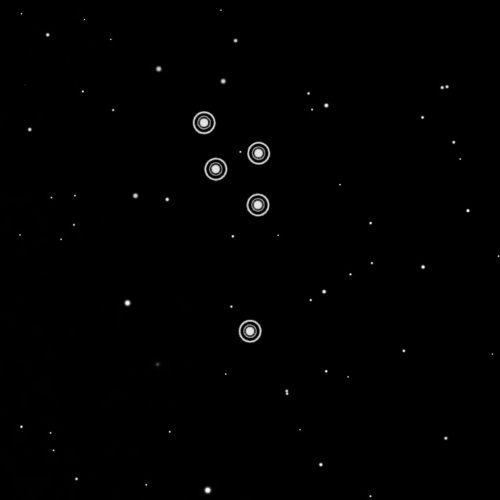delphinus: (189, 102, 274, 350)
